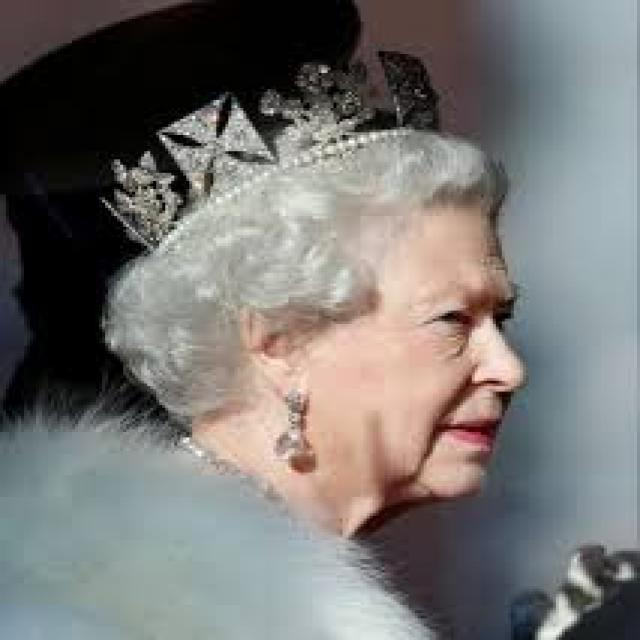Earring: (261, 376, 329, 479)
